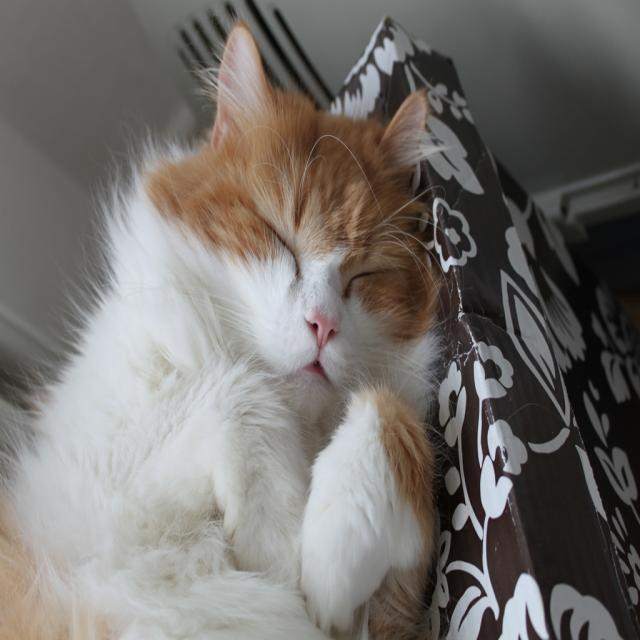Cat: (0, 1, 462, 638)
